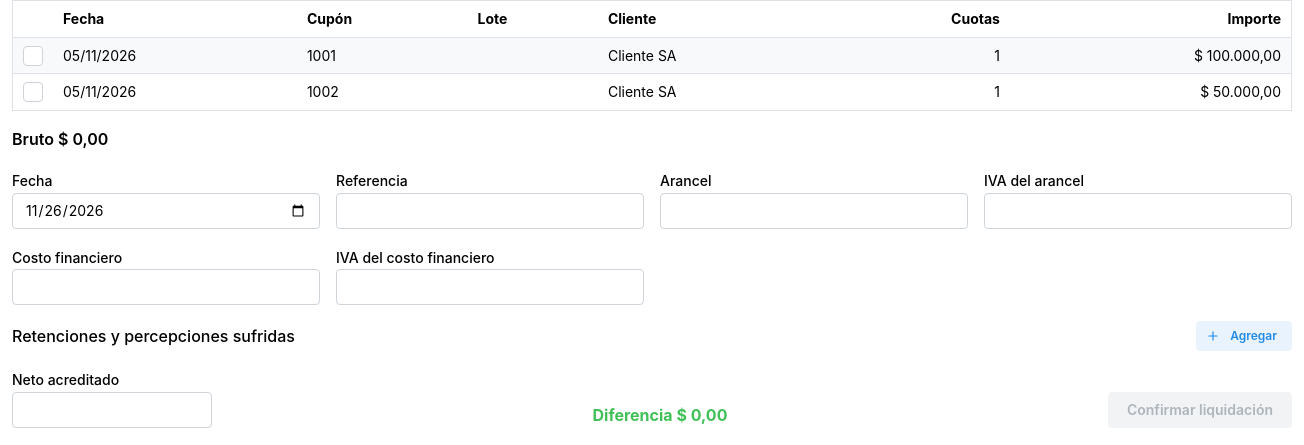
Test: tarjetas (web) › formulario de liquidación
Click the checkbox named "Cupón 1001" at point(33, 56), box [23,46,43,66]
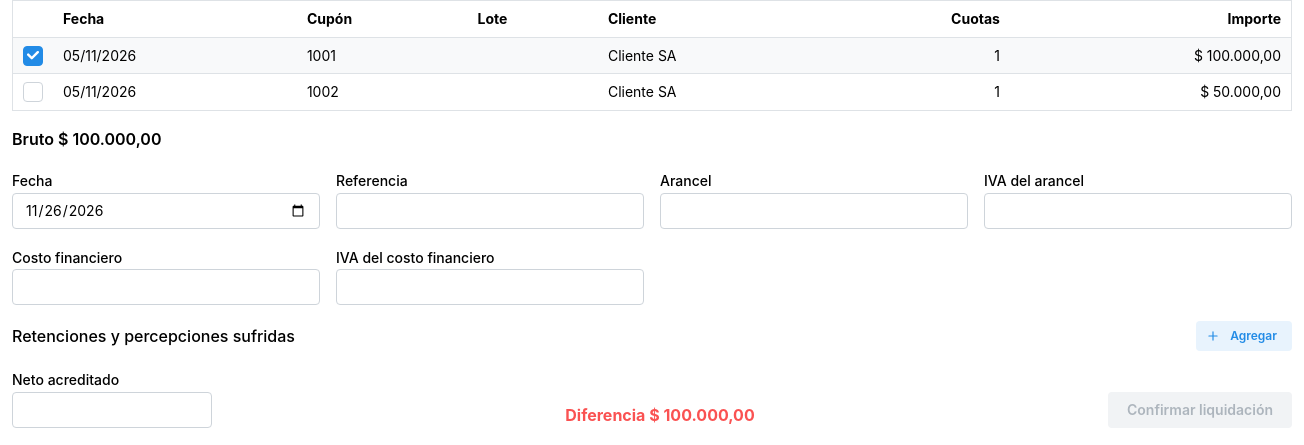
Click the checkbox named "Cupón 1002" at point(33, 92), box [23,82,43,102]
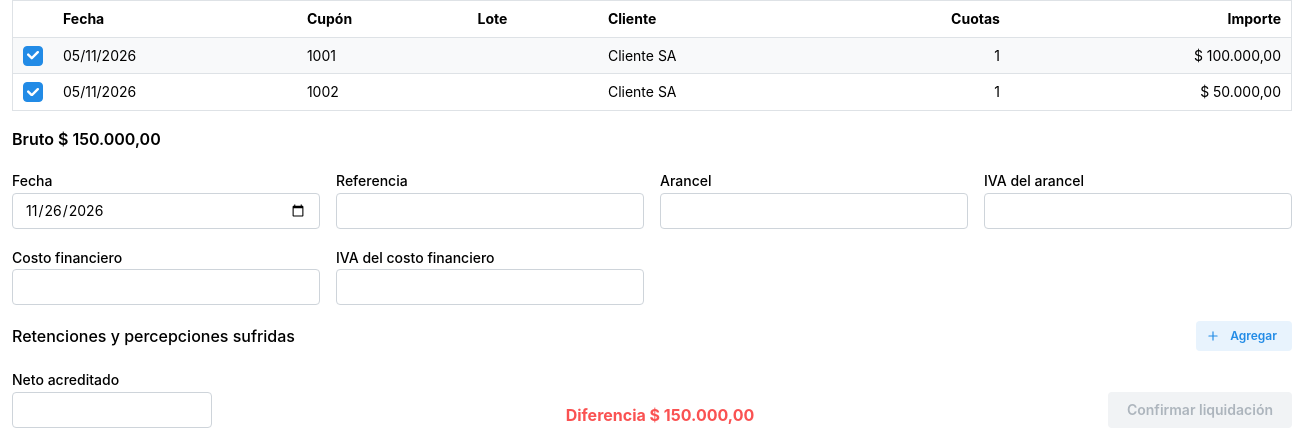
Result: the text "Bruto $ 150.000,00" is shown at [12,129,161,149]
Type "2700" into the field labelled "Arancel" at point(814, 211), box [660,193,968,229]
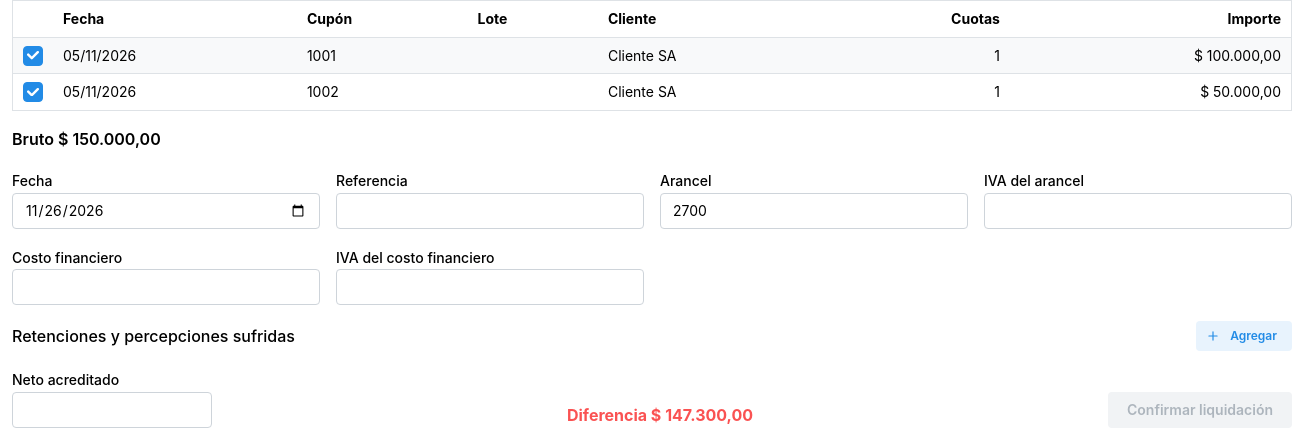
Type "567" into the field labelled "IVA del arancel" at point(1138, 211), box [984,193,1292,229]
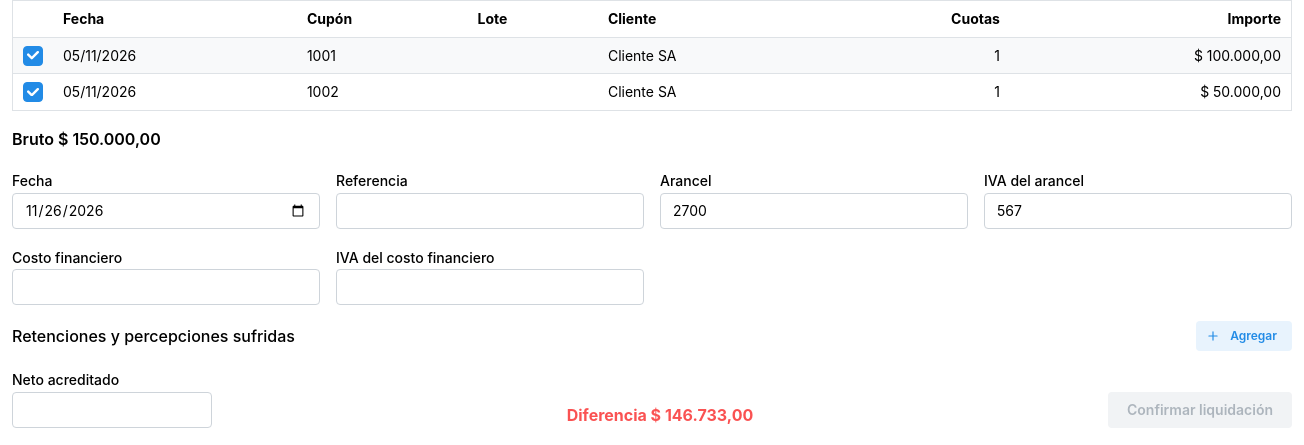
Type "146733" into the field labelled "Neto acreditado" at point(112, 410), box [12,392,212,428]
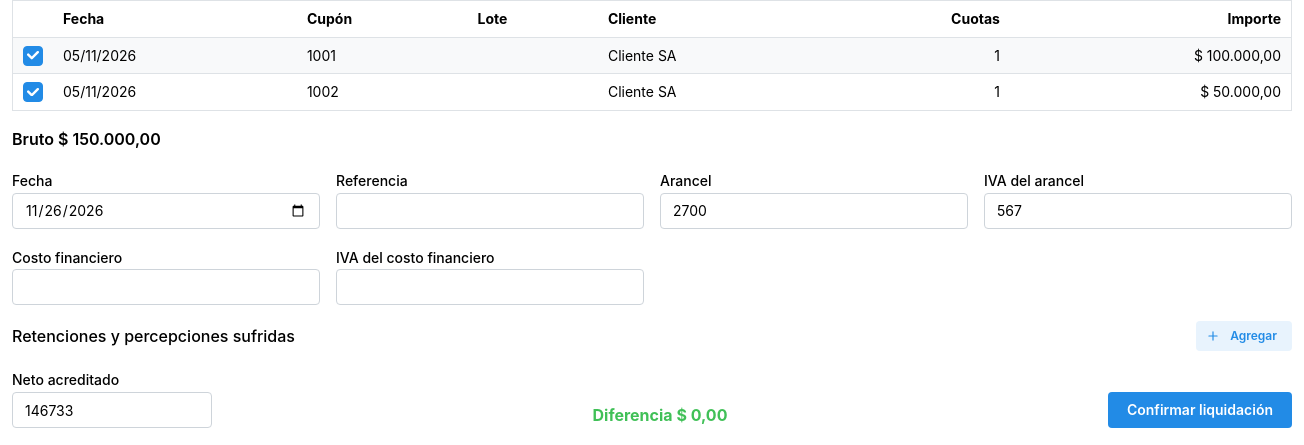
Result: the text "Diferencia $ 0,00" is shown at [592,404,727,428]
Result: the button "Confirmar liquidación" is enabled at [1108,392,1292,428]
Replace the text in the field labelled "Neto acreditado" with "146732,99" at point(112, 410), box [12,392,212,428]
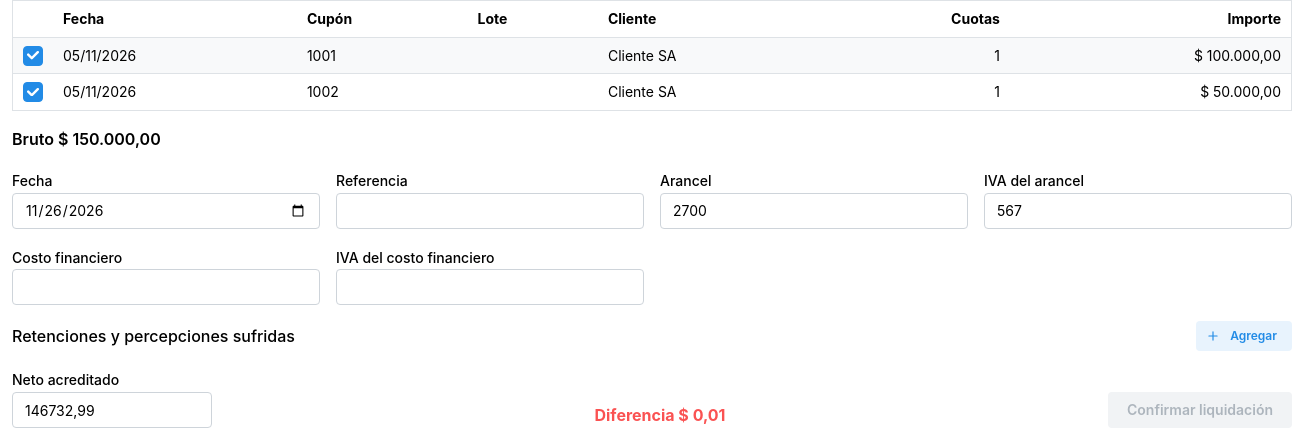
Result: the text "Diferencia $ 0,01" is shown at [594,404,726,428]
Result: the button "Confirmar liquidación" is disabled at [1108,392,1292,428]
